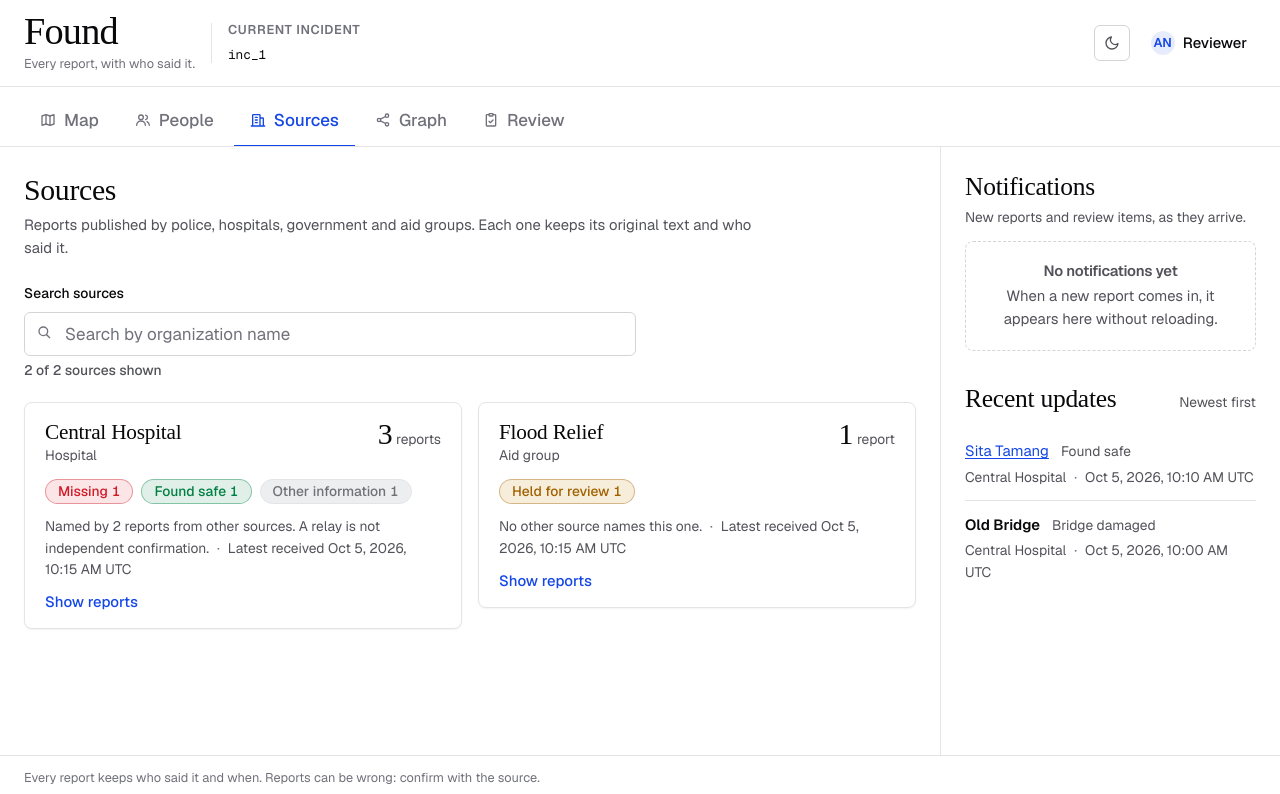
Test: sources page › opens a source's own reports on request
The width and height of the screenshot is (1280, 794).
Click the button "Show reports" below "Named by": (91, 602) [45, 592, 138, 612]
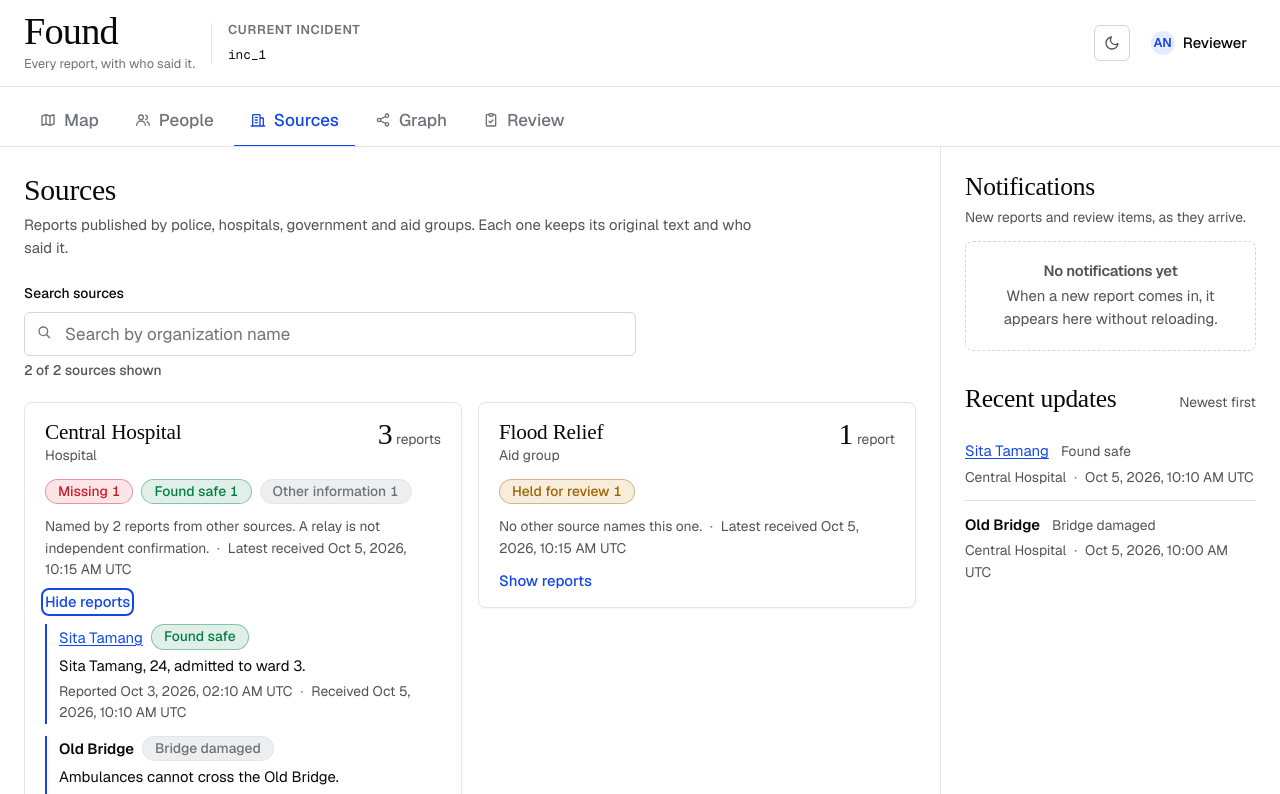
Expected: the text "Sita Tamang, 24, admitted to ward 3." is shown, [59, 656, 305, 675]
Expected: the button "Hide reports" is expanded, [45, 592, 130, 612]
